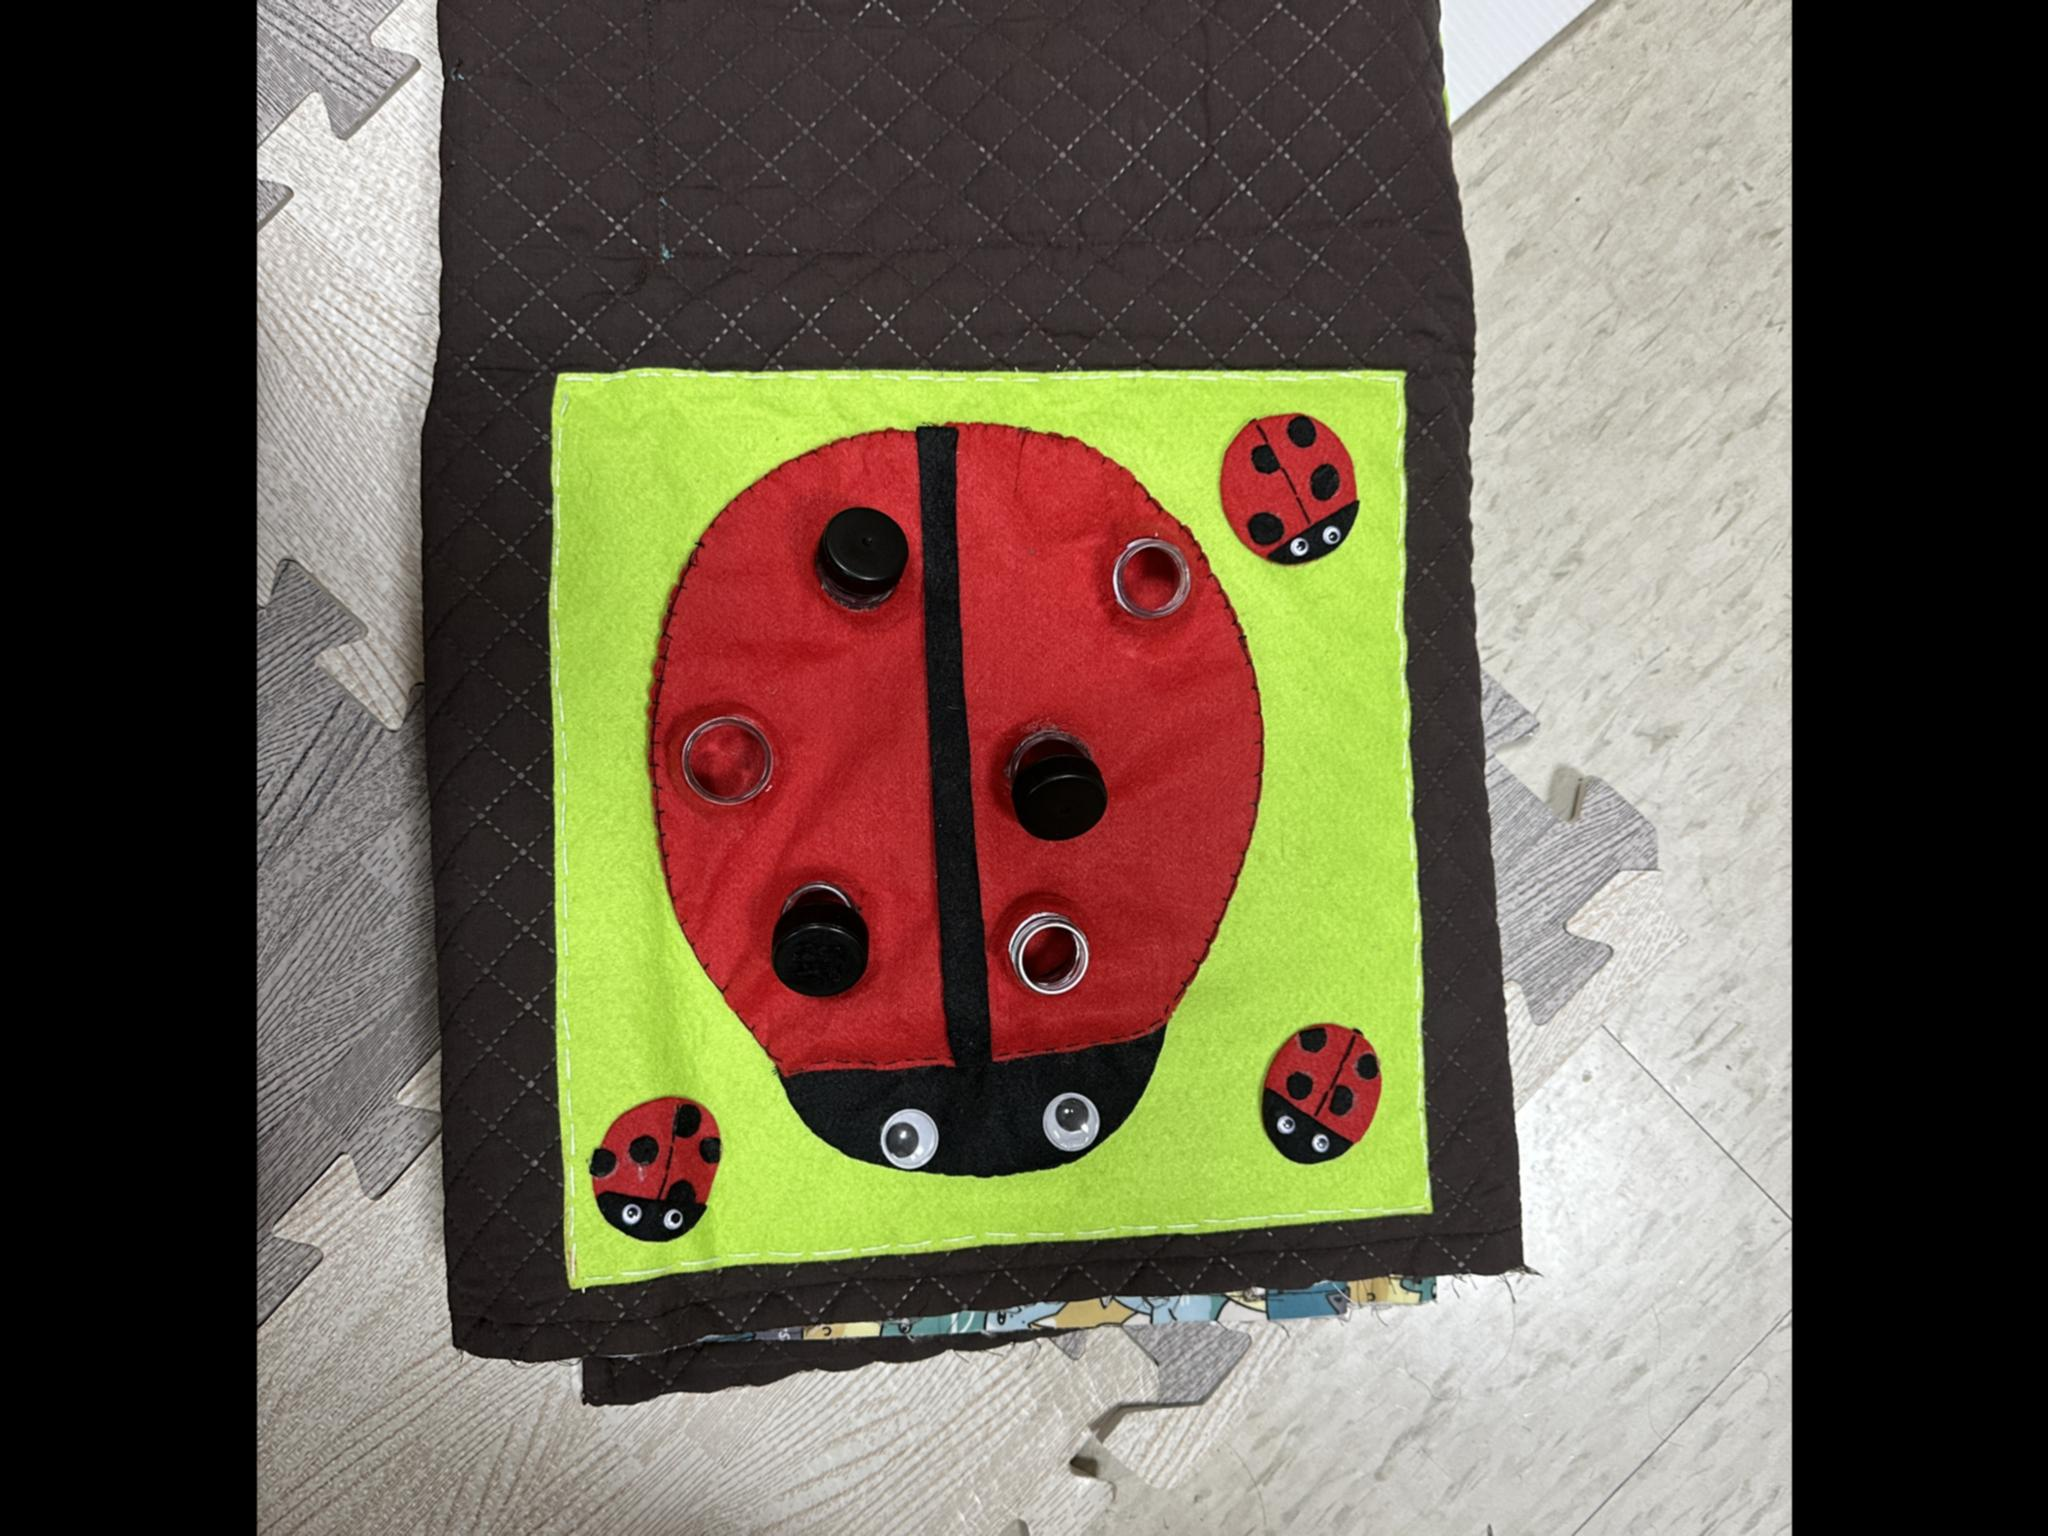cap_ng: (758, 860, 892, 1004), (993, 710, 1119, 850), (793, 499, 922, 629)
